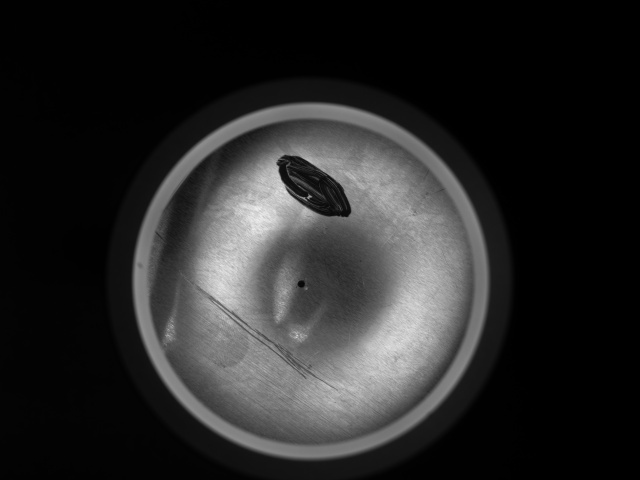ca_shang: (154, 246, 352, 401)
zang_wu: (276, 150, 353, 223)
zhen_kong: (294, 277, 308, 290)
